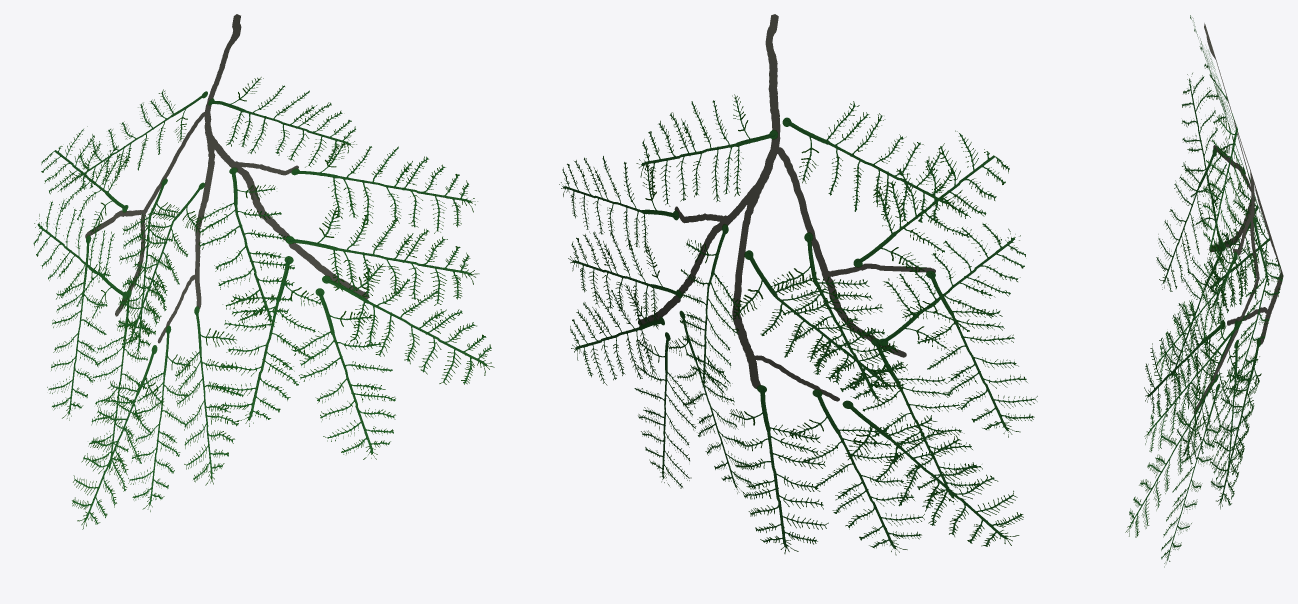
The model's file is LeafMesh14.fbx.
The picture shows the model from 3 angles, left to right: view 1: azimuth 30°, elevation 25°; view 2: azimuth 150°, elevation 25°; view 3: azimuth 270°, elevation 25°; orthographic projection. The views are drawn at different scales.
Visible parts, largest first — view 1: LeafMesh1; view 2: LeafMesh1; view 3: LeafMesh1.
Boxes of the visible parts, x1=… form: LeafMesh1: x1=33, y1=14, x2=494, y2=529; LeafMesh1: x1=559, y1=14, x2=1037, y2=555; LeafMesh1: x1=1125, y1=15, x2=1283, y2=567.
Size of the model in its own units: 2 by 2.07 by 0.6195.
